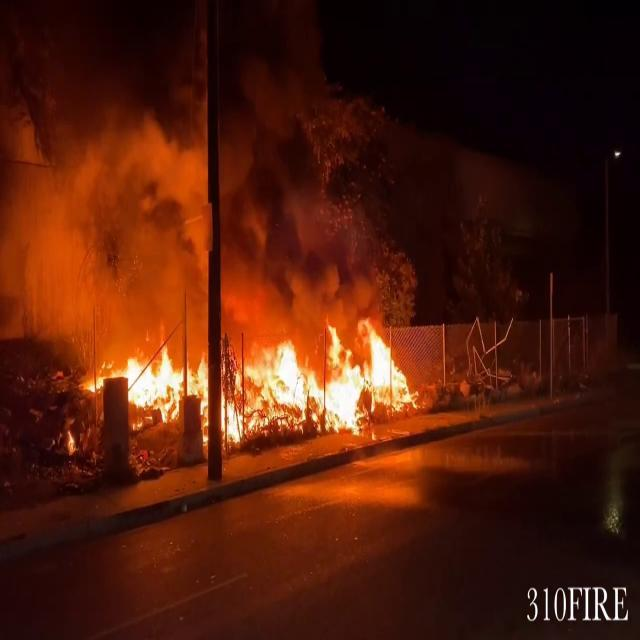Fire: (98, 312, 418, 438)
Smoke: (0, 33, 343, 328)
